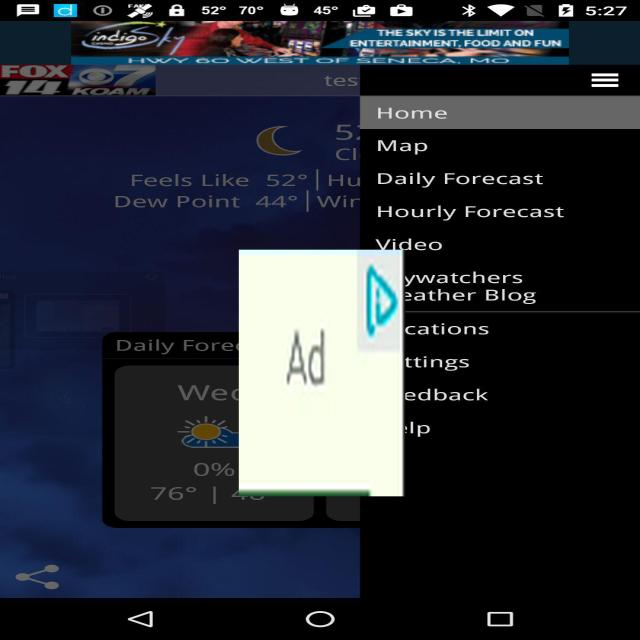sneaking: (239, 250, 405, 496)
